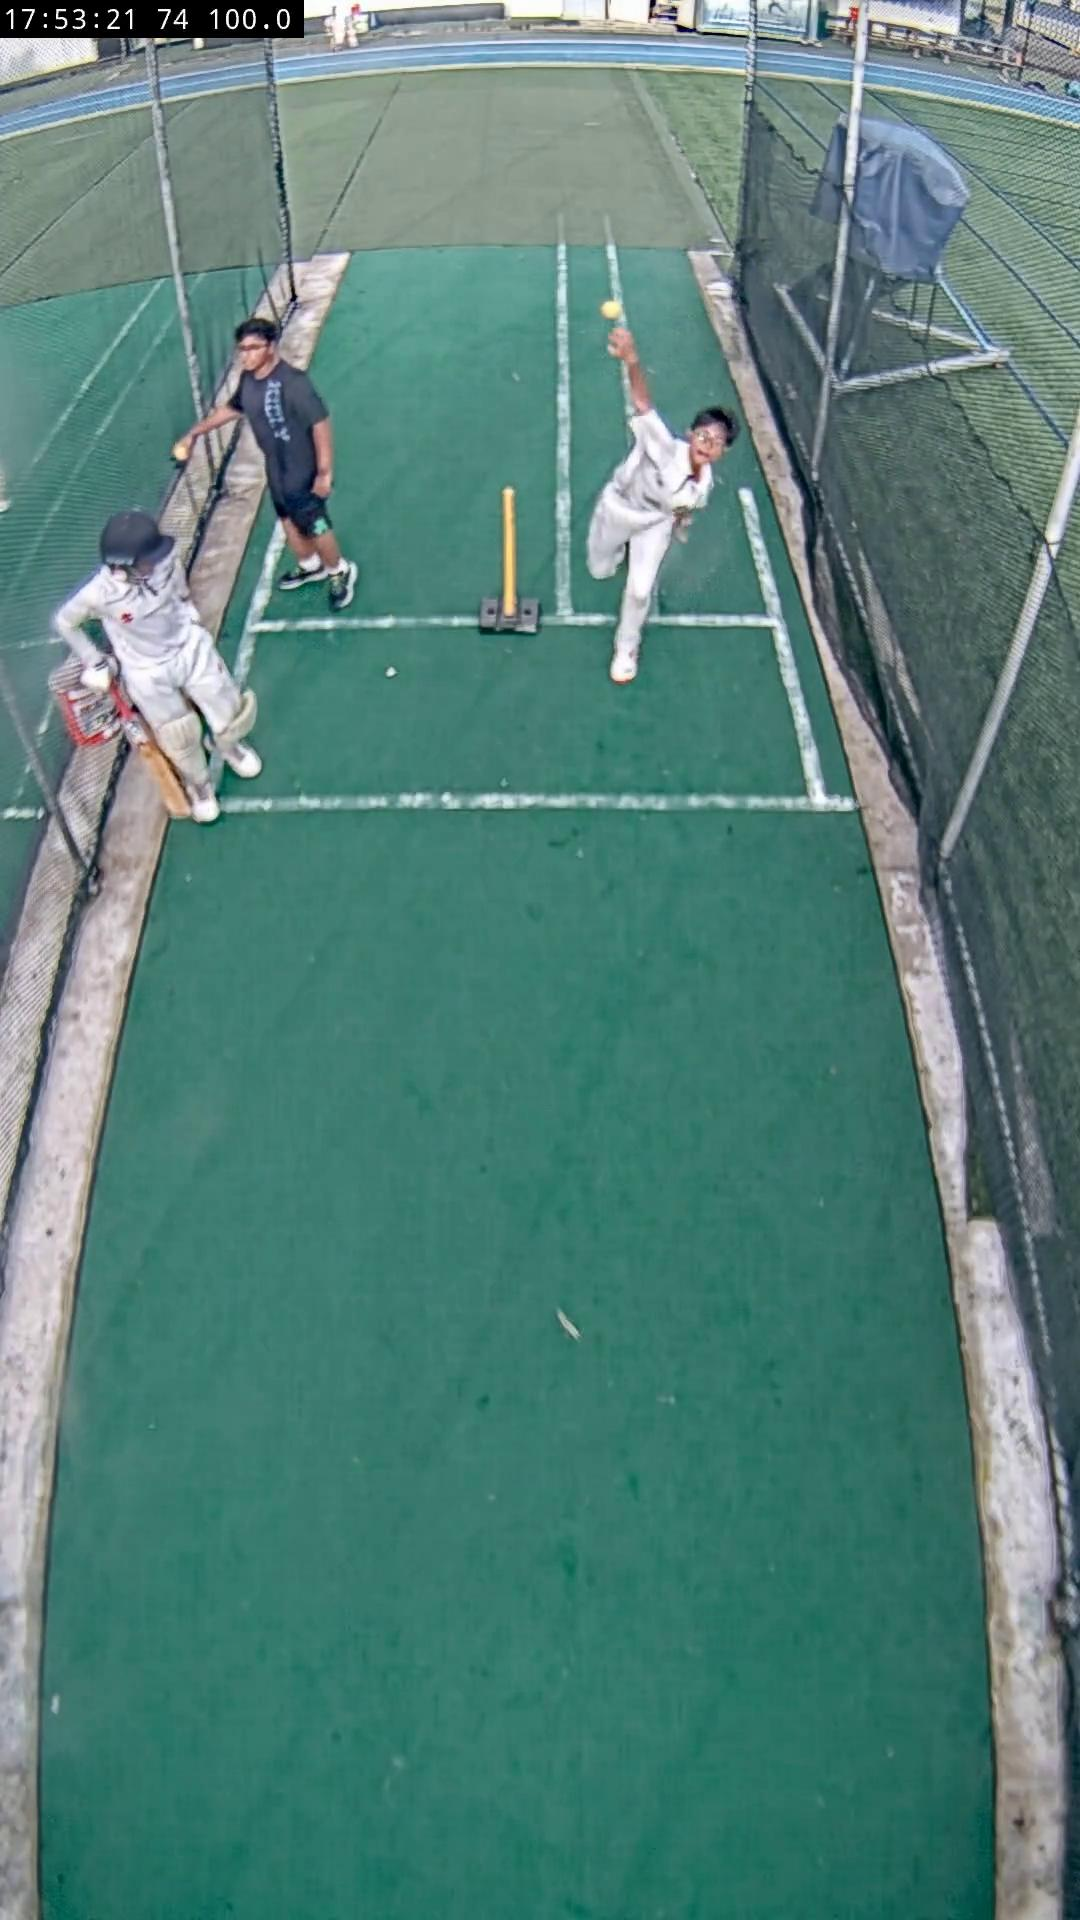ball: (600, 301, 622, 319)
stumps: (480, 488, 541, 634)
